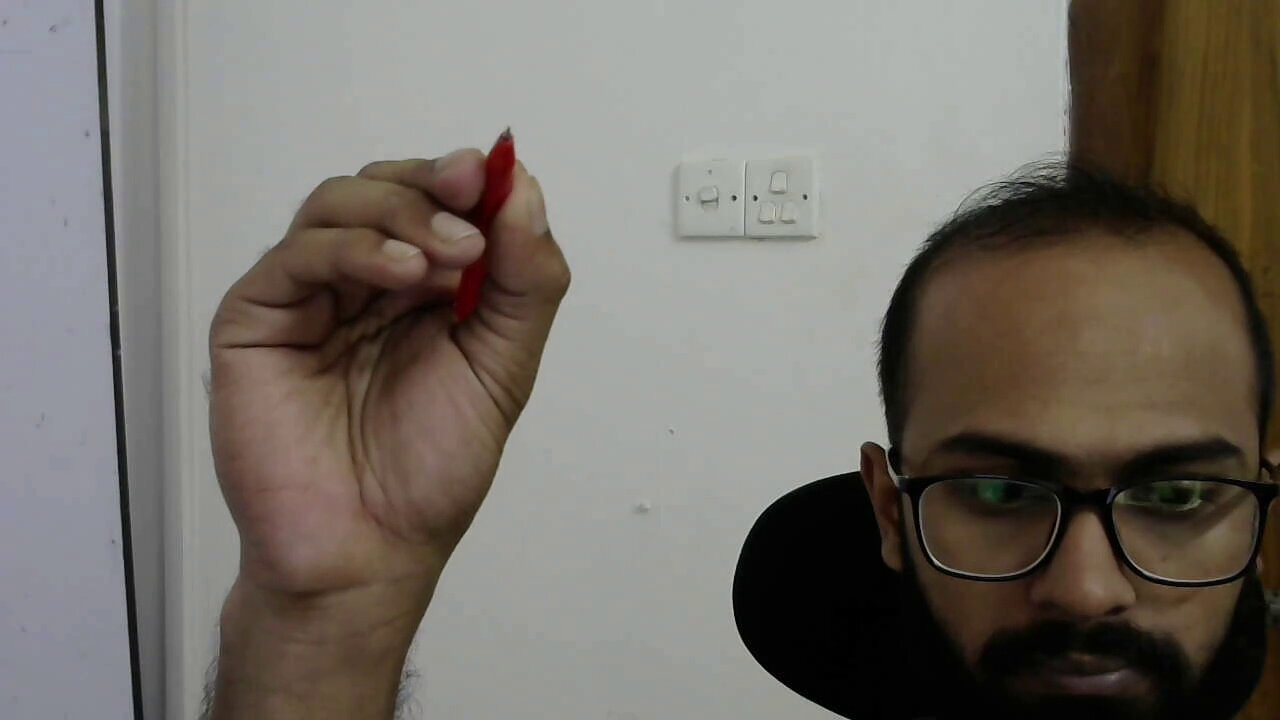pointer: (205, 127, 576, 533)
